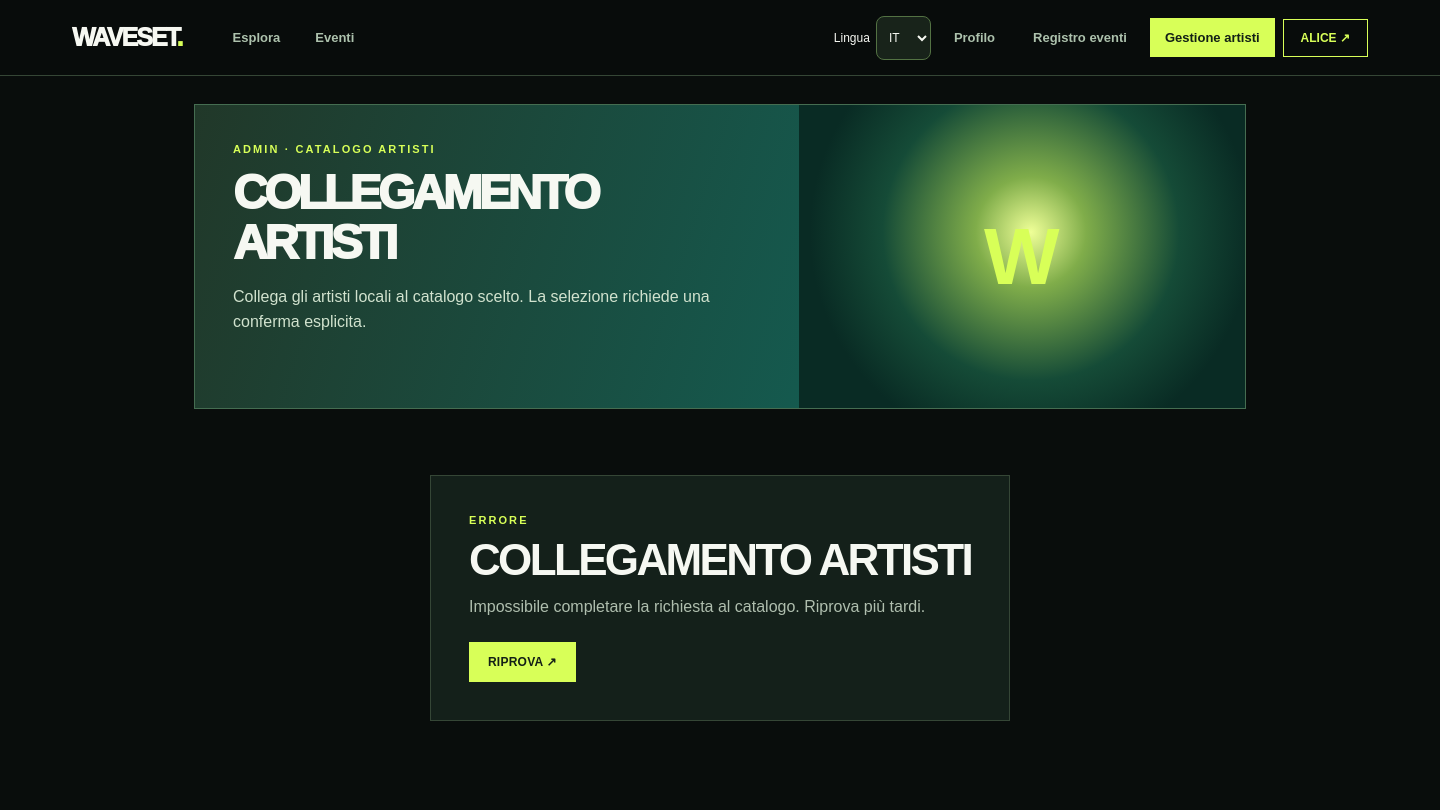
Test: lista ADMIN: vuoto ed errore con retry, nessun ripiego sul catalogo pubblico
expect the text "Impossibile completare la richiesta al catalogo. Riprova più tardi." is shown: met, box [469, 594, 971, 620]
Click the button "Riprova ↗".
click(522, 662)  # box [469, 642, 576, 682]
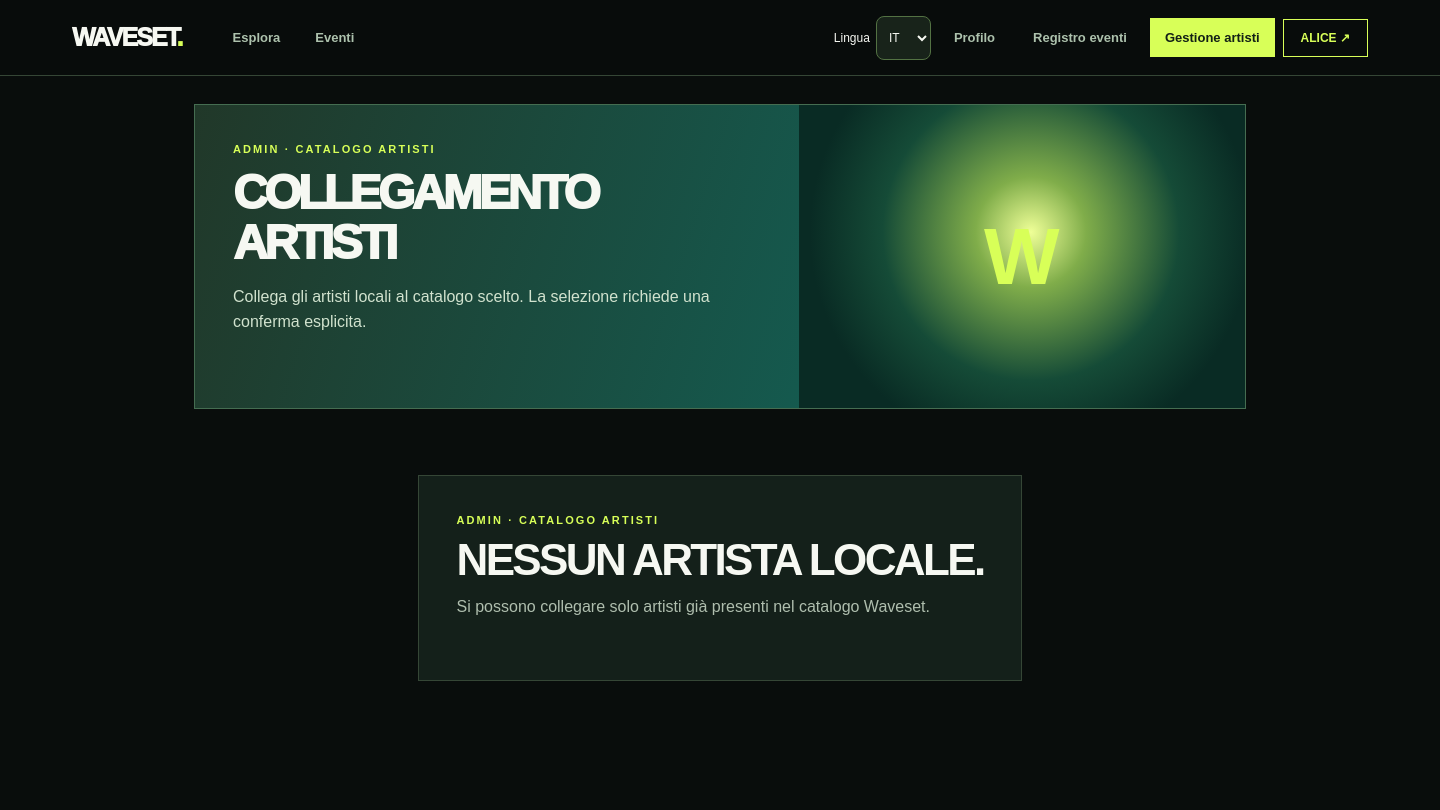
expect the heading "Nessun artista locale." is shown: met, box [456, 538, 984, 582]
